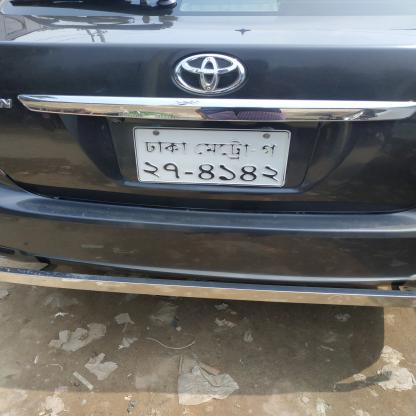license_plate: (65, 124, 386, 210)
